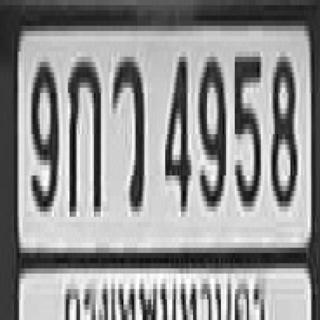A01: (66, 54, 99, 209)
A37: (111, 52, 143, 206)
N04: (163, 52, 190, 206)
N05: (233, 52, 259, 201)
N08: (270, 52, 296, 201)
N09: (197, 52, 224, 201), (30, 57, 57, 206)
